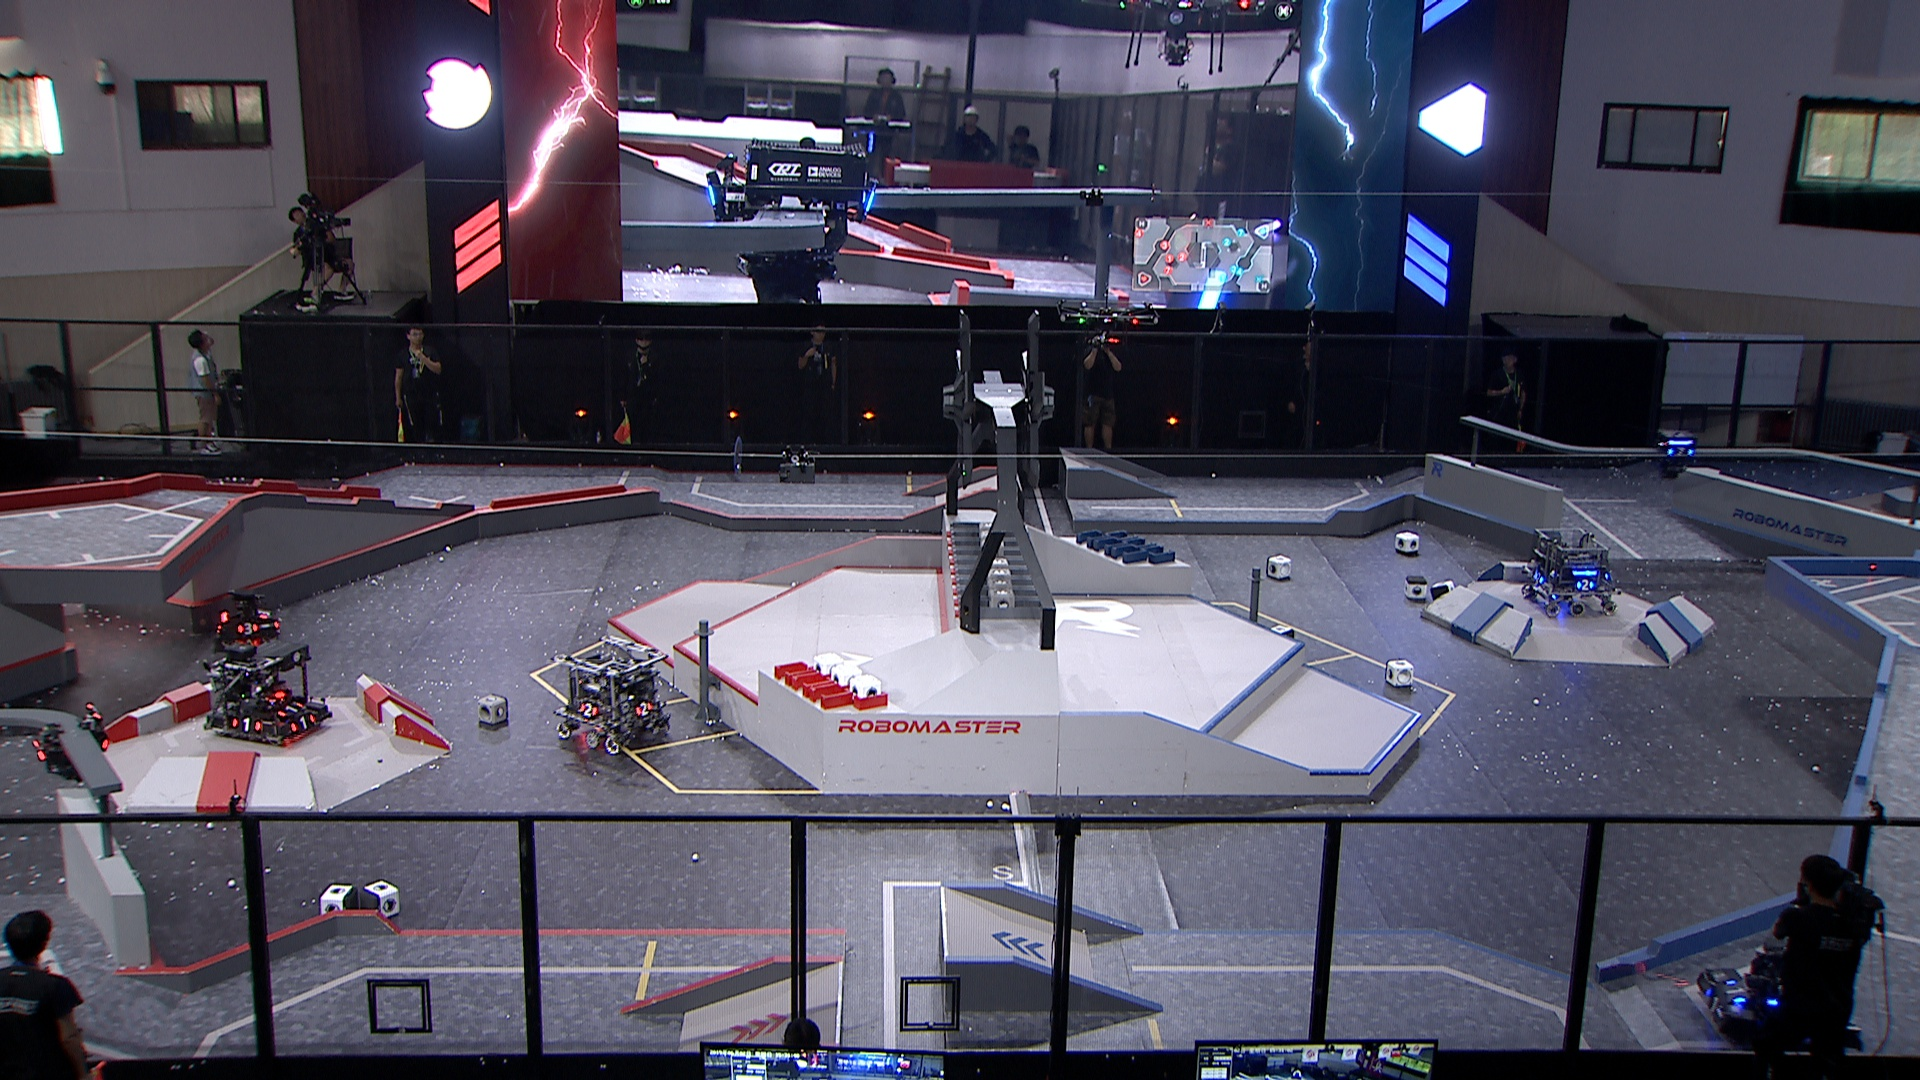armor: (1700, 984, 1730, 1021), (1724, 975, 1750, 1007), (229, 713, 264, 736), (276, 694, 305, 716), (286, 713, 315, 733), (30, 737, 50, 765), (632, 698, 655, 719), (574, 700, 600, 719), (1665, 443, 1697, 458), (1572, 578, 1596, 593), (256, 603, 273, 622), (235, 622, 258, 636)
car: (1697, 930, 1865, 1048), (550, 636, 673, 756), (196, 638, 332, 746), (1515, 524, 1621, 618), (212, 591, 286, 647)
ignore: (705, 135, 880, 305)
watcher: (26, 700, 112, 787), (1651, 429, 1700, 481)
